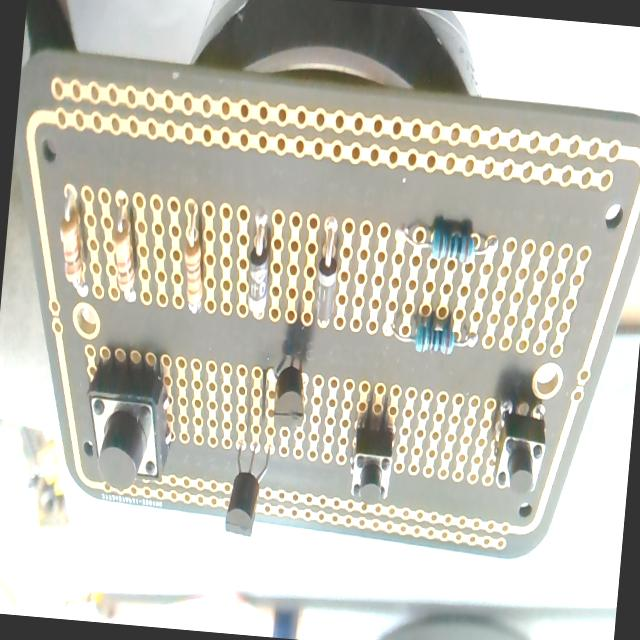diode: (308, 202, 359, 338), (240, 208, 284, 335)
resistor: (167, 190, 219, 322), (51, 176, 108, 294), (96, 182, 150, 306), (370, 304, 485, 362), (386, 212, 502, 262)
switch: (80, 355, 178, 501), (484, 397, 550, 507), (346, 422, 401, 512)
transistor: (206, 434, 276, 564), (264, 341, 322, 443)
